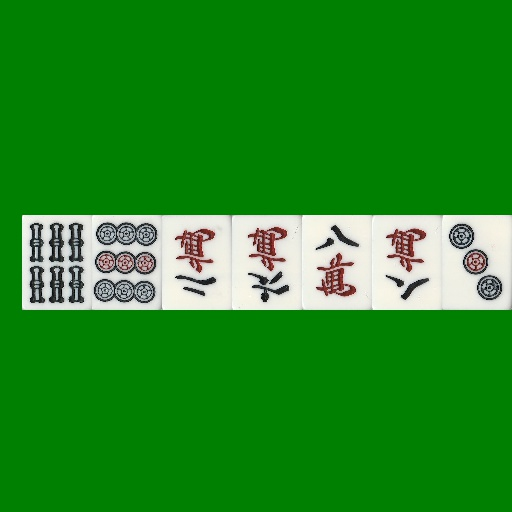2m: (162, 215, 232, 310)
3p: (442, 215, 512, 310)
6m: (232, 215, 302, 310)
6s: (22, 215, 92, 310)
8m: (302, 215, 372, 310), (372, 215, 442, 310)
9p: (92, 215, 162, 310)
